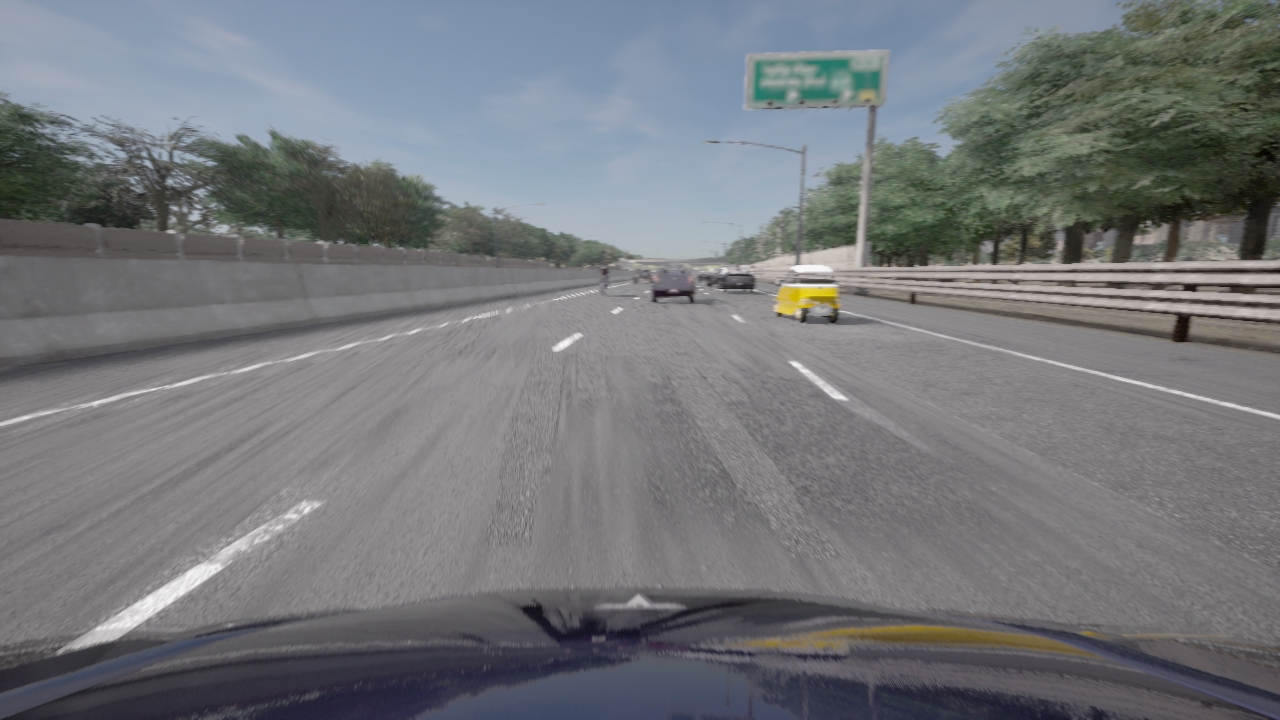cyclist: (0, 588, 1279, 719), (775, 266, 839, 323), (652, 264, 695, 303), (716, 267, 754, 293), (633, 265, 653, 283), (706, 268, 723, 286), (698, 271, 709, 281), (601, 280, 607, 296)
